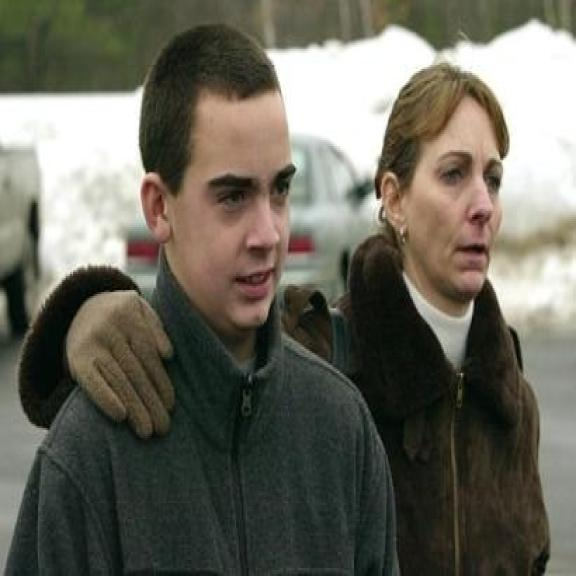face: (137, 74, 296, 339), (378, 84, 508, 308)
